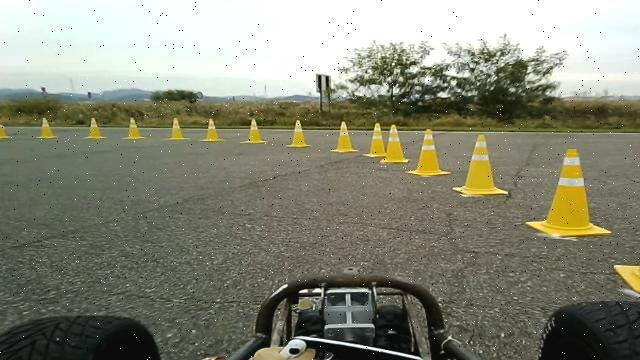yellow cone: (524, 148, 612, 237), (452, 134, 509, 196), (613, 187, 640, 296), (405, 128, 451, 177), (380, 124, 409, 163), (330, 120, 359, 153), (362, 122, 387, 157), (285, 119, 311, 147), (240, 118, 266, 143), (164, 117, 190, 141), (198, 118, 224, 142), (83, 117, 106, 139), (122, 117, 145, 139), (35, 118, 57, 138), (0, 118, 10, 138)
